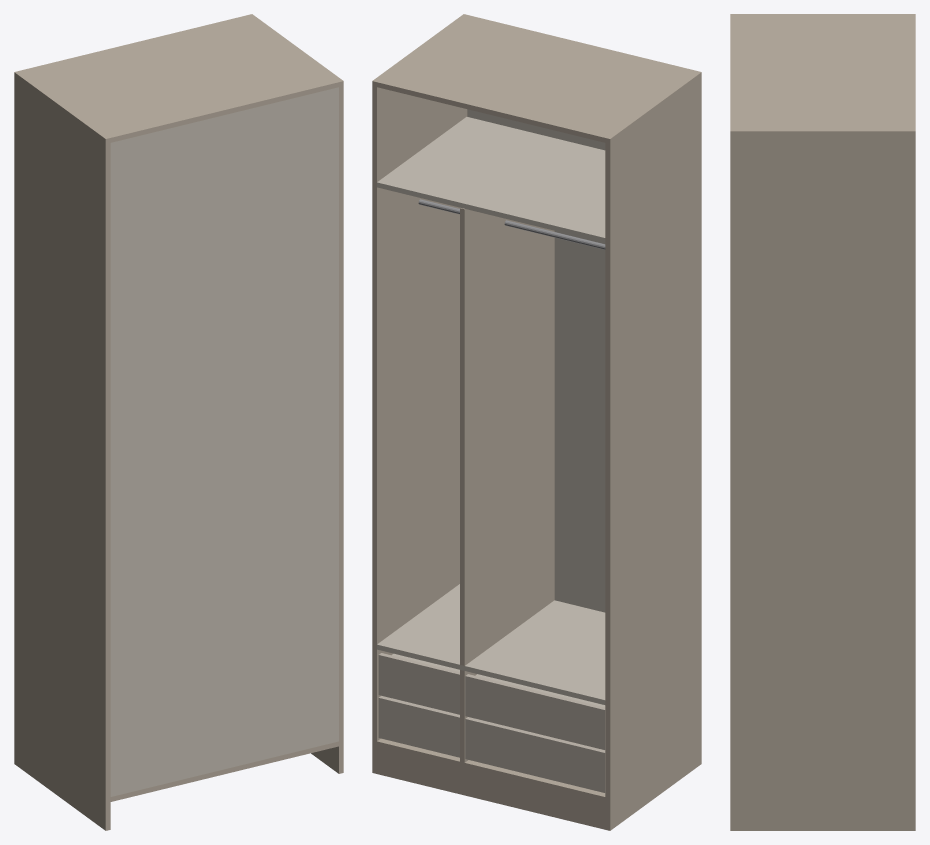
3 renders of one model, left to right at view 1: azimuth 30°, elevation 25°; view 2: azimuth 150°, elevation 25°; view 3: azimuth 270°, elevation 25°, orthographic.
Visible parts, largest first — view 1: 004_ARKALIK, 000_GOVDE_SOL, 002_GOVDE_UST, 001_GOVDE_SAG, 003_GOVDE_ALT; view 2: 000_GOVDE_SOL, 001_GOVDE_SAG, 006_IC_DIKME, 002_GOVDE_UST, 004_ARKALIK, 008_RAF_2, 007_RAF_1, 011_CEKMECE_ON_2, 009_CEKMECE_ON_1, 005_BAZA, 003_GOVDE_ALT, 013_ASKILIK; view 3: 001_GOVDE_SAG, 002_GOVDE_UST, 000_GOVDE_SOL.
Part boxes in pixels (x1,y1,x2,y2): 004_ARKALIK: [110, 87, 338, 796]; 000_GOVDE_SOL: [14, 71, 110, 830]; 002_GOVDE_UST: [19, 15, 338, 142]; 001_GOVDE_SAG: [247, 14, 343, 773]; 003_GOVDE_ALT: [110, 741, 338, 801]; 000_GOVDE_SOL: [605, 71, 701, 830]; 001_GOVDE_SAG: [372, 14, 468, 773]; 006_IC_DIKME: [460, 208, 554, 762]; 002_GOVDE_UST: [377, 15, 696, 142]; 004_ARKALIK: [467, 109, 605, 612]; 008_RAF_2: [377, 117, 605, 242]; 007_RAF_1: [377, 584, 605, 704]; 011_CEKMECE_ON_2: [378, 653, 605, 749]; 009_CEKMECE_ON_1: [378, 696, 605, 792]; 005_BAZA: [377, 746, 605, 829]; 003_GOVDE_ALT: [377, 738, 605, 801]; 013_ASKILIK: [418, 199, 605, 249]; 001_GOVDE_SAG: [730, 129, 915, 830]; 002_GOVDE_UST: [730, 16, 915, 128]; 000_GOVDE_SOL: [730, 14, 915, 16].
Size of the model in its own units: 0.9 by 2.5 by 0.6.
